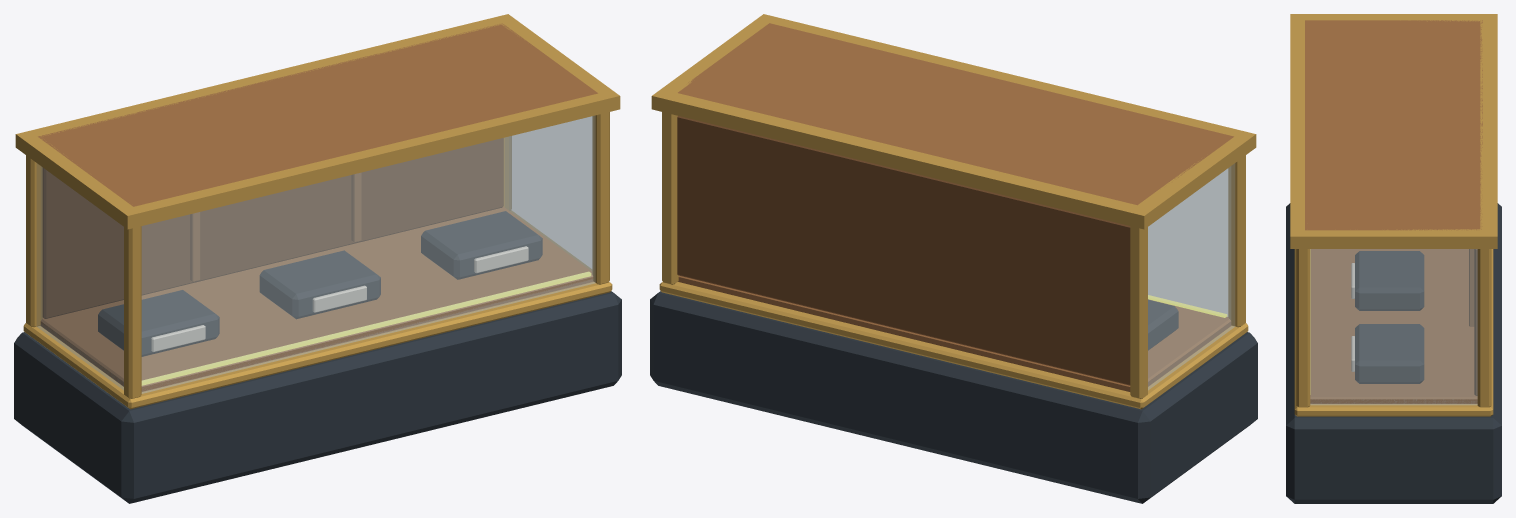
The model's file is Gallery_Showcase.fbx.
3 renders of one model, left to right at view 1: azimuth 30°, elevation 25°; view 2: azimuth 150°, elevation 25°; view 3: azimuth 270°, elevation 25°, orthographic. The views are drawn at different scales.
Parts seen in each view (by area): view 1: Glass, Wood, FrameDark, Brass, WoodDark, Lamp, Cream_SmoothPlastic; view 2: WoodDark, FrameDark, Wood, Brass, Glass; view 3: Wood, FrameDark, Glass, Brass, WoodDark, Cream_SmoothPlastic.
Boxes of the visible parts, x1,y1,x2,y2 form: Glass: [37, 116, 595, 393]; Wood: [38, 23, 597, 391]; FrameDark: [14, 211, 621, 503]; Brass: [15, 14, 620, 409]; WoodDark: [42, 138, 503, 318]; Lamp: [141, 271, 591, 385]; Cream_SmoothPlastic: [151, 246, 528, 351]; WoodDark: [677, 116, 1130, 385]; FrameDark: [650, 291, 1257, 503]; Wood: [678, 23, 1233, 391]; Brass: [651, 14, 1256, 409]; Glass: [1148, 164, 1234, 390]; Wood: [1305, 20, 1482, 403]; FrameDark: [1286, 203, 1501, 503]; Glass: [1310, 249, 1477, 405]; Brass: [1290, 14, 1497, 416]; WoodDark: [1474, 249, 1477, 395]; Cream_SmoothPlastic: [1351, 263, 1354, 371].
Size of the model in its own units: 6.2 by 3.44 by 2.5.
